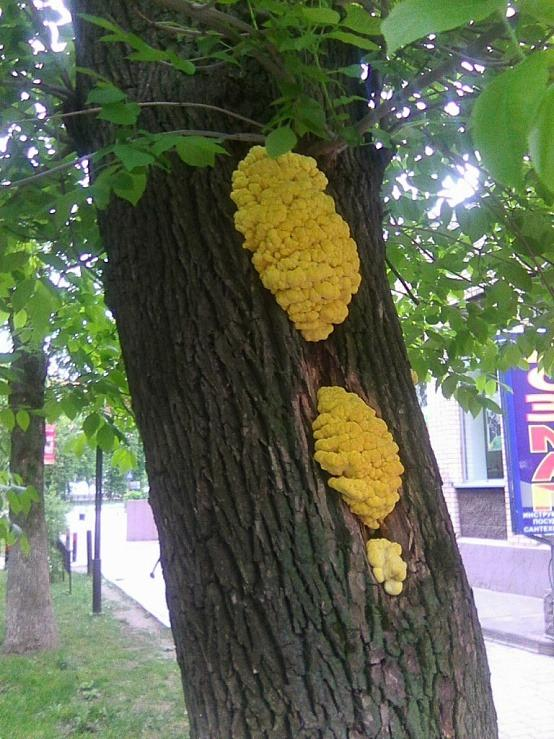Sulphur-yellow tinder fungus: (231, 146, 359, 340), (313, 386, 403, 528), (366, 538, 406, 595)
